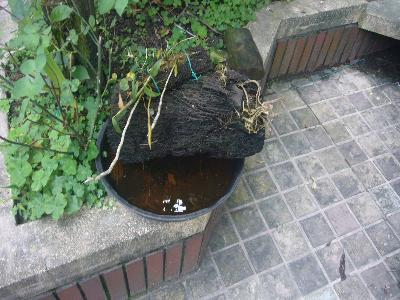bowl: (95, 115, 245, 224)
